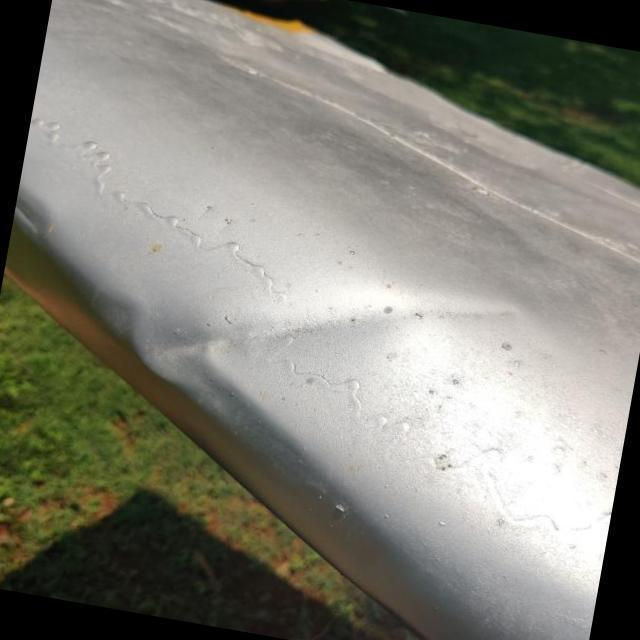dent: (98, 238, 474, 456), (12, 184, 54, 243)
